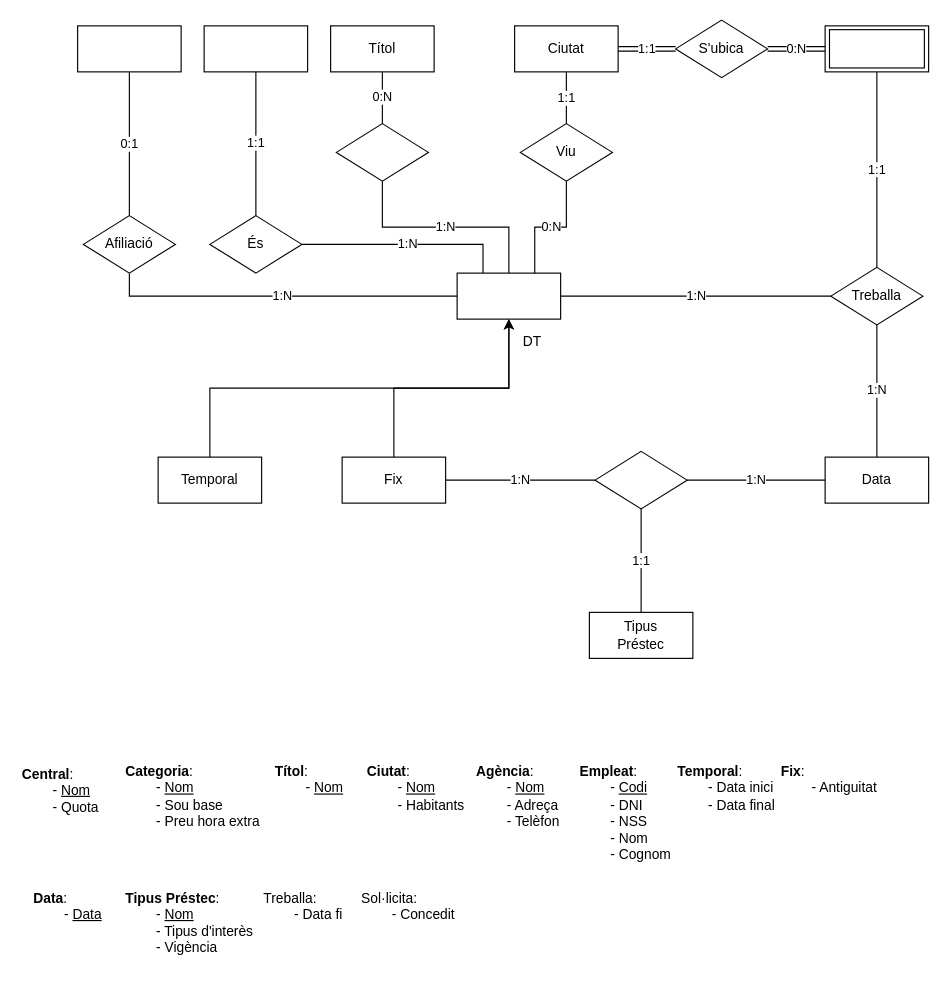
Image size: 949x983. Some labels were removed from this diagram. Each missing label, with the box of its shape:
Agència: (824, 25, 929, 72)
Categoria: (203, 25, 308, 72)
Central: (76, 25, 181, 72)
Empleat: (456, 272, 561, 319)
Sol·licita: (594, 450, 687, 509)
Té: (335, 122, 428, 181)
